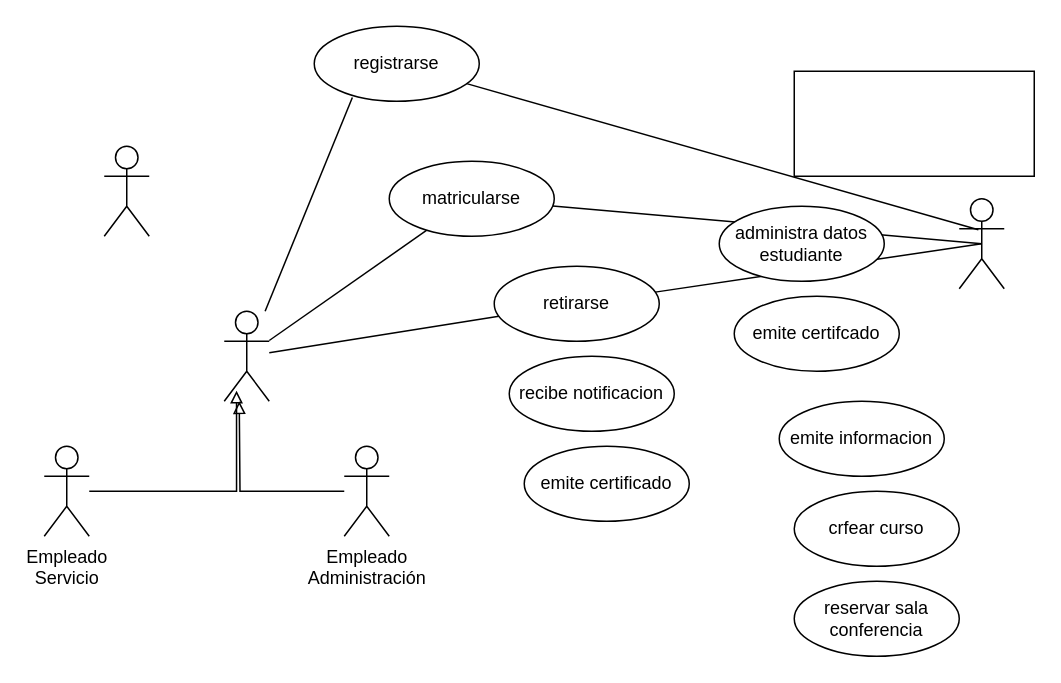
This 1061x683 diagram has some shape labels left out. The shapes that lost their labels are listed below. From the top down, each one's box as (x1, y1, x2, y2) in pixels, then its label:
(793, 70, 1034, 176): <<actor>> Sistema de notificaciones
(103, 145, 149, 236): Profesor
(958, 197, 1004, 289): Estudiante
(223, 310, 269, 401): Empleado
